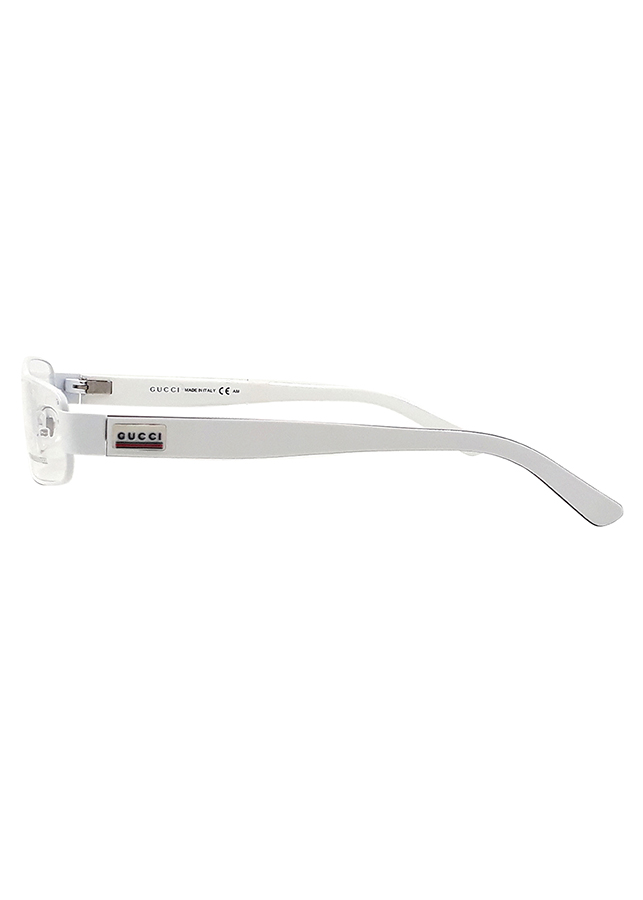Gucci: (104, 415, 171, 459), (144, 379, 181, 402)
